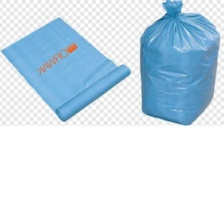plastic_bag: (0, 13, 132, 126), (133, 0, 223, 128)
